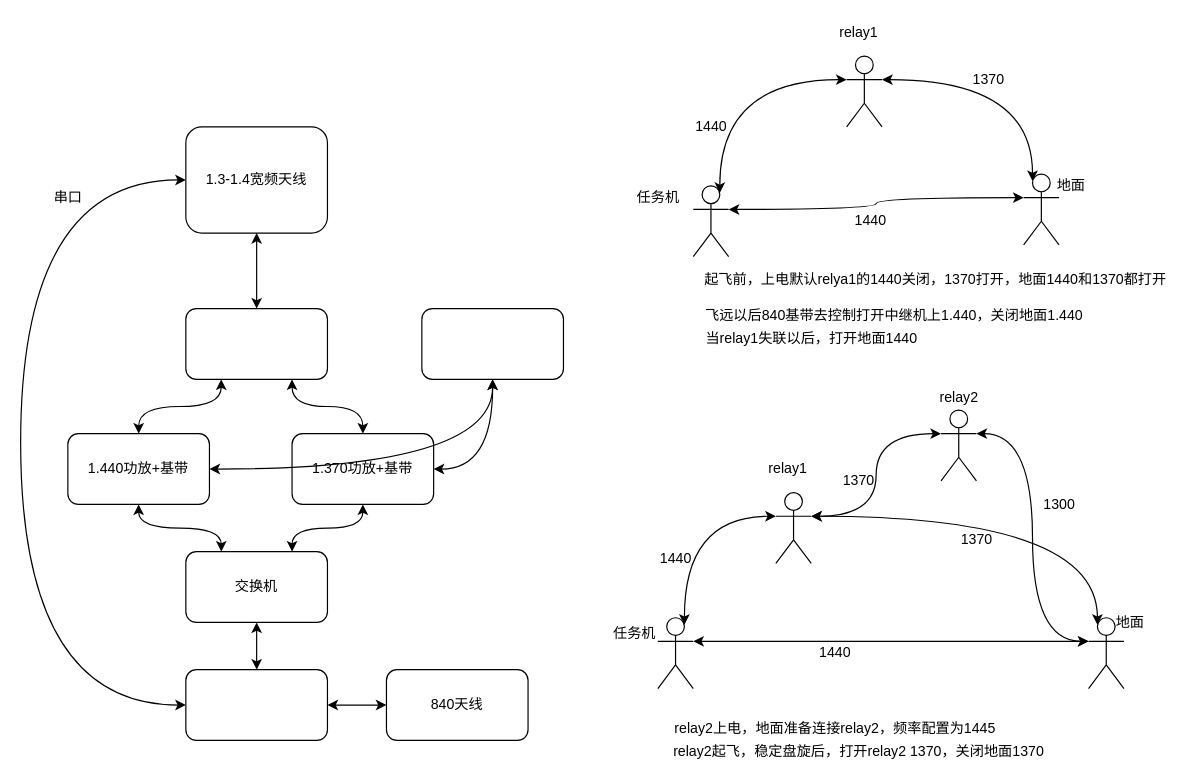
The diagram is 1198 pixels wide and 784 high, and some of its shapes have lost their labels. The centre of each missing label's shape, as x and y in pixels:
840基带: point 256,704
GPS 1PPS: point 492,343
双工器: point 256,343
